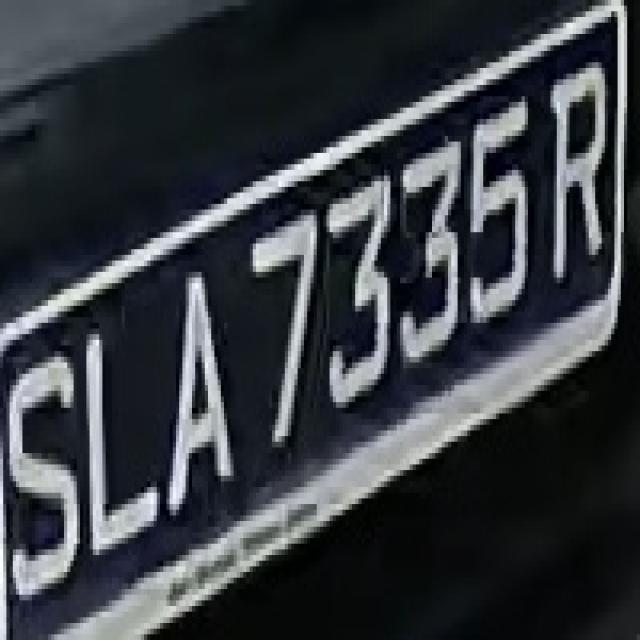3: (307, 164, 394, 391), (394, 136, 461, 368)
5: (467, 96, 538, 334)
7: (237, 221, 326, 459)
A: (150, 255, 244, 510)
L: (74, 306, 160, 566)
R: (544, 57, 608, 300)
S: (3, 328, 80, 600)
